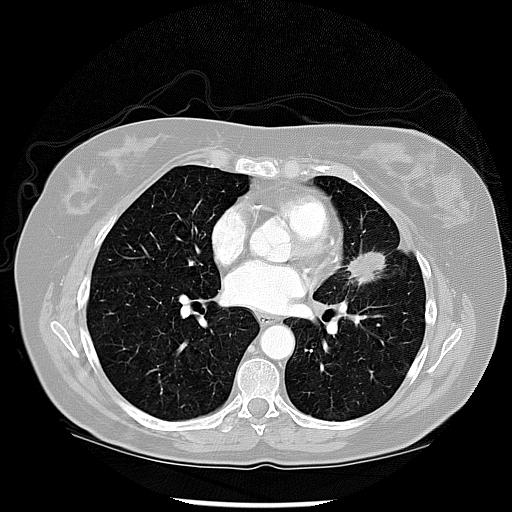nodule: (349, 247, 385, 283)
